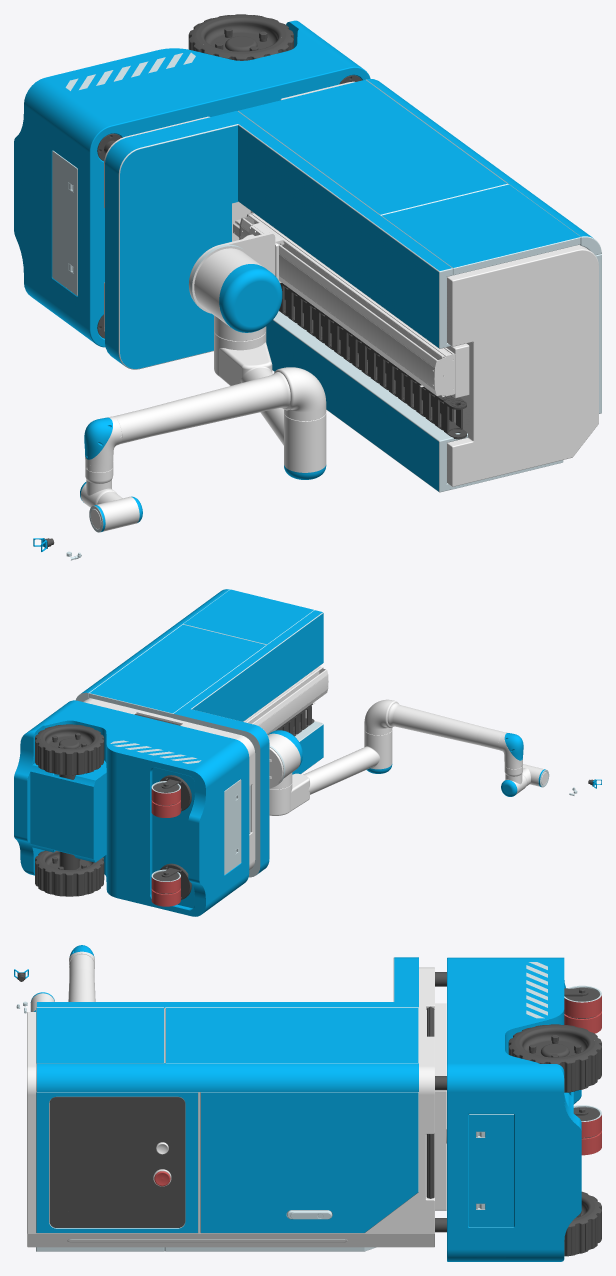
Rendered from real-bot.glb.
3 views of the same model, one above another, from view 1: azimuth 30°, elevation 25°; view 2: azimuth 150°, elevation 25°; view 3: azimuth 270°, elevation 25° (orthographic). The views are drawn at different scales.
Parts seen in each view (by area): view 1: 机身2002-1, AGV底盘-1, 机身001-1, 机身门（下）001-1, 机身门（上）-1, UG模型装配, S220-E21-BC-直连上盖_500_1-1, 2_sub1_1_1_1-1, 后轮_sub1-1, 1_sub1_1_1_1_2-1, 前轮门-2, 1_sub2_1_1_1_2-1 (+7 smaller); view 2: AGV底盘-1, 机身2002-1, 机身门（下）001-1, 后轮_sub1-1, 机身门（上）-1, 2_sub1_1_1_1-1, UG模型装配, 机身001-1, S220-E21-BC-直连上盖_500_1-1, 前轮门-2, 前轮_sub3-1 (×2), 1_sub2_1_1_1_2-1 (+4 smaller); view 3: AGV底盘-1, 机身（后下）001-1, 屏幕-1, 机身2002-1, 机身001-1, 机身门（下）001-1, 机身门（上）-1, 后轮_sub1-1, 机身屏幕-1, 前轮门-1, 前轮_sub2-1 (×2), UG模型装配 (+7 smaller).
Boxes of the visible parts, x1,y1,x2,y2 form: 机身2002-1: [105, 79, 601, 492]; AGV底盘-1: [14, 20, 370, 347]; 机身001-1: [104, 81, 598, 486]; 机身门（下）001-1: [238, 80, 507, 215]; 机身门（上）-1: [381, 184, 580, 275]; UG模型装配: [113, 367, 326, 443]; S220-E21-BC-直连上盖_500_1-1: [240, 218, 437, 395]; 2_sub1_1_1_1-1: [214, 330, 326, 472]; 后轮_sub1-1: [188, 14, 293, 60]; 1_sub1_1_1_1_2-1: [219, 264, 282, 332]; 前轮门-2: [52, 150, 77, 295]; 1_sub2_1_1_1_2-1: [190, 244, 266, 341]; AGV底盘-1: [14, 700, 249, 916]; 机身2002-1: [75, 589, 323, 877]; 机身门（下）001-1: [89, 624, 266, 718]; 后轮_sub1-1: [35, 724, 104, 896]; 机身门（上）-1: [183, 589, 314, 644]; 2_sub1_1_1_1-1: [269, 730, 392, 815]; UG模型装配: [364, 699, 503, 750]; 机身001-1: [83, 698, 321, 869]; S220-E21-BC-直连上盖_500_1-1: [252, 669, 328, 734]; 前轮门-2: [224, 779, 241, 874]; 前轮_sub3-1 (×2): [153, 775, 191, 899]; 1_sub2_1_1_1_2-1: [267, 733, 300, 789]; AGV底盘-1: [447, 957, 581, 1261]; 机身（后下）001-1: [200, 1092, 418, 1233]; 屏幕-1: [49, 1097, 184, 1227]; 机身2002-1: [36, 957, 418, 1251]; 机身001-1: [27, 967, 446, 1247]; 机身门（下）001-1: [165, 1008, 418, 1063]; 机身门（上）-1: [36, 1008, 164, 1063]; 后轮_sub1-1: [508, 1024, 601, 1256]; 机身屏幕-1: [36, 1091, 198, 1233]; 前轮门-1: [469, 1114, 513, 1227]; 前轮_sub2-1 (×2): [564, 985, 601, 1137]; UG模型装配: [68, 954, 95, 1001].
Bounding box in the file's own units: 3.28 × 1.2 × 3.26.
